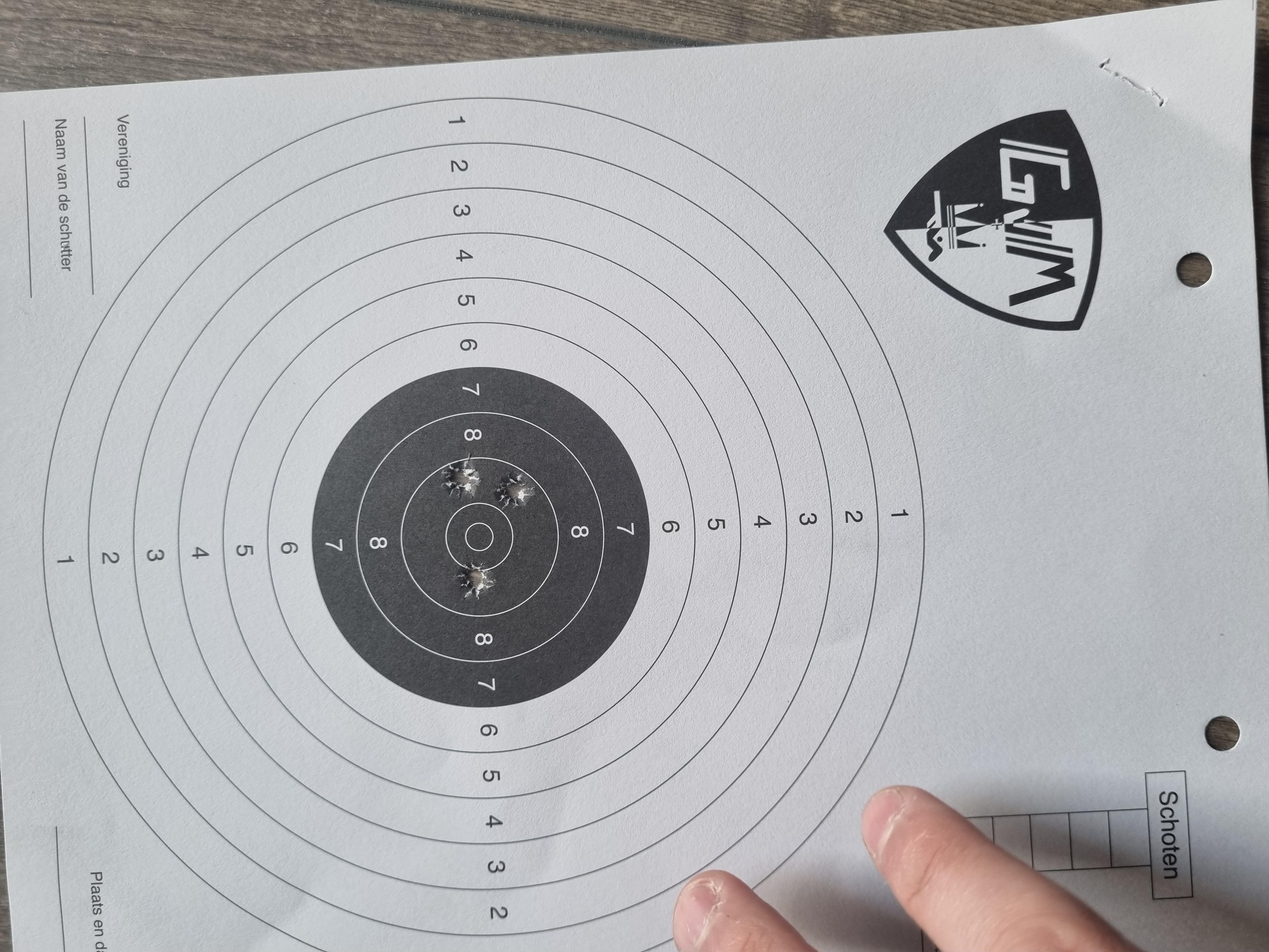hole: (606, 332, 662, 361), (468, 342, 519, 372), (592, 371, 638, 402)
